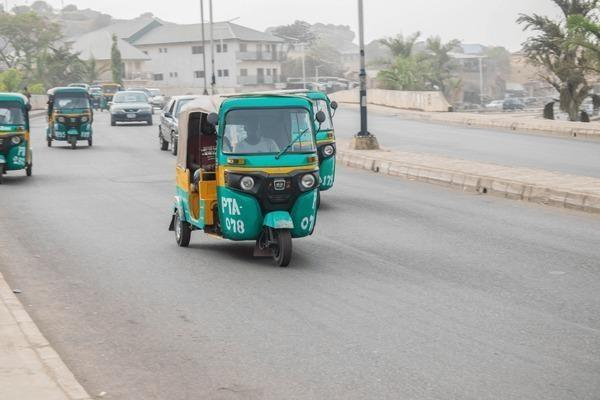keke: (167, 94, 322, 262), (46, 82, 97, 150), (1, 88, 37, 181)
